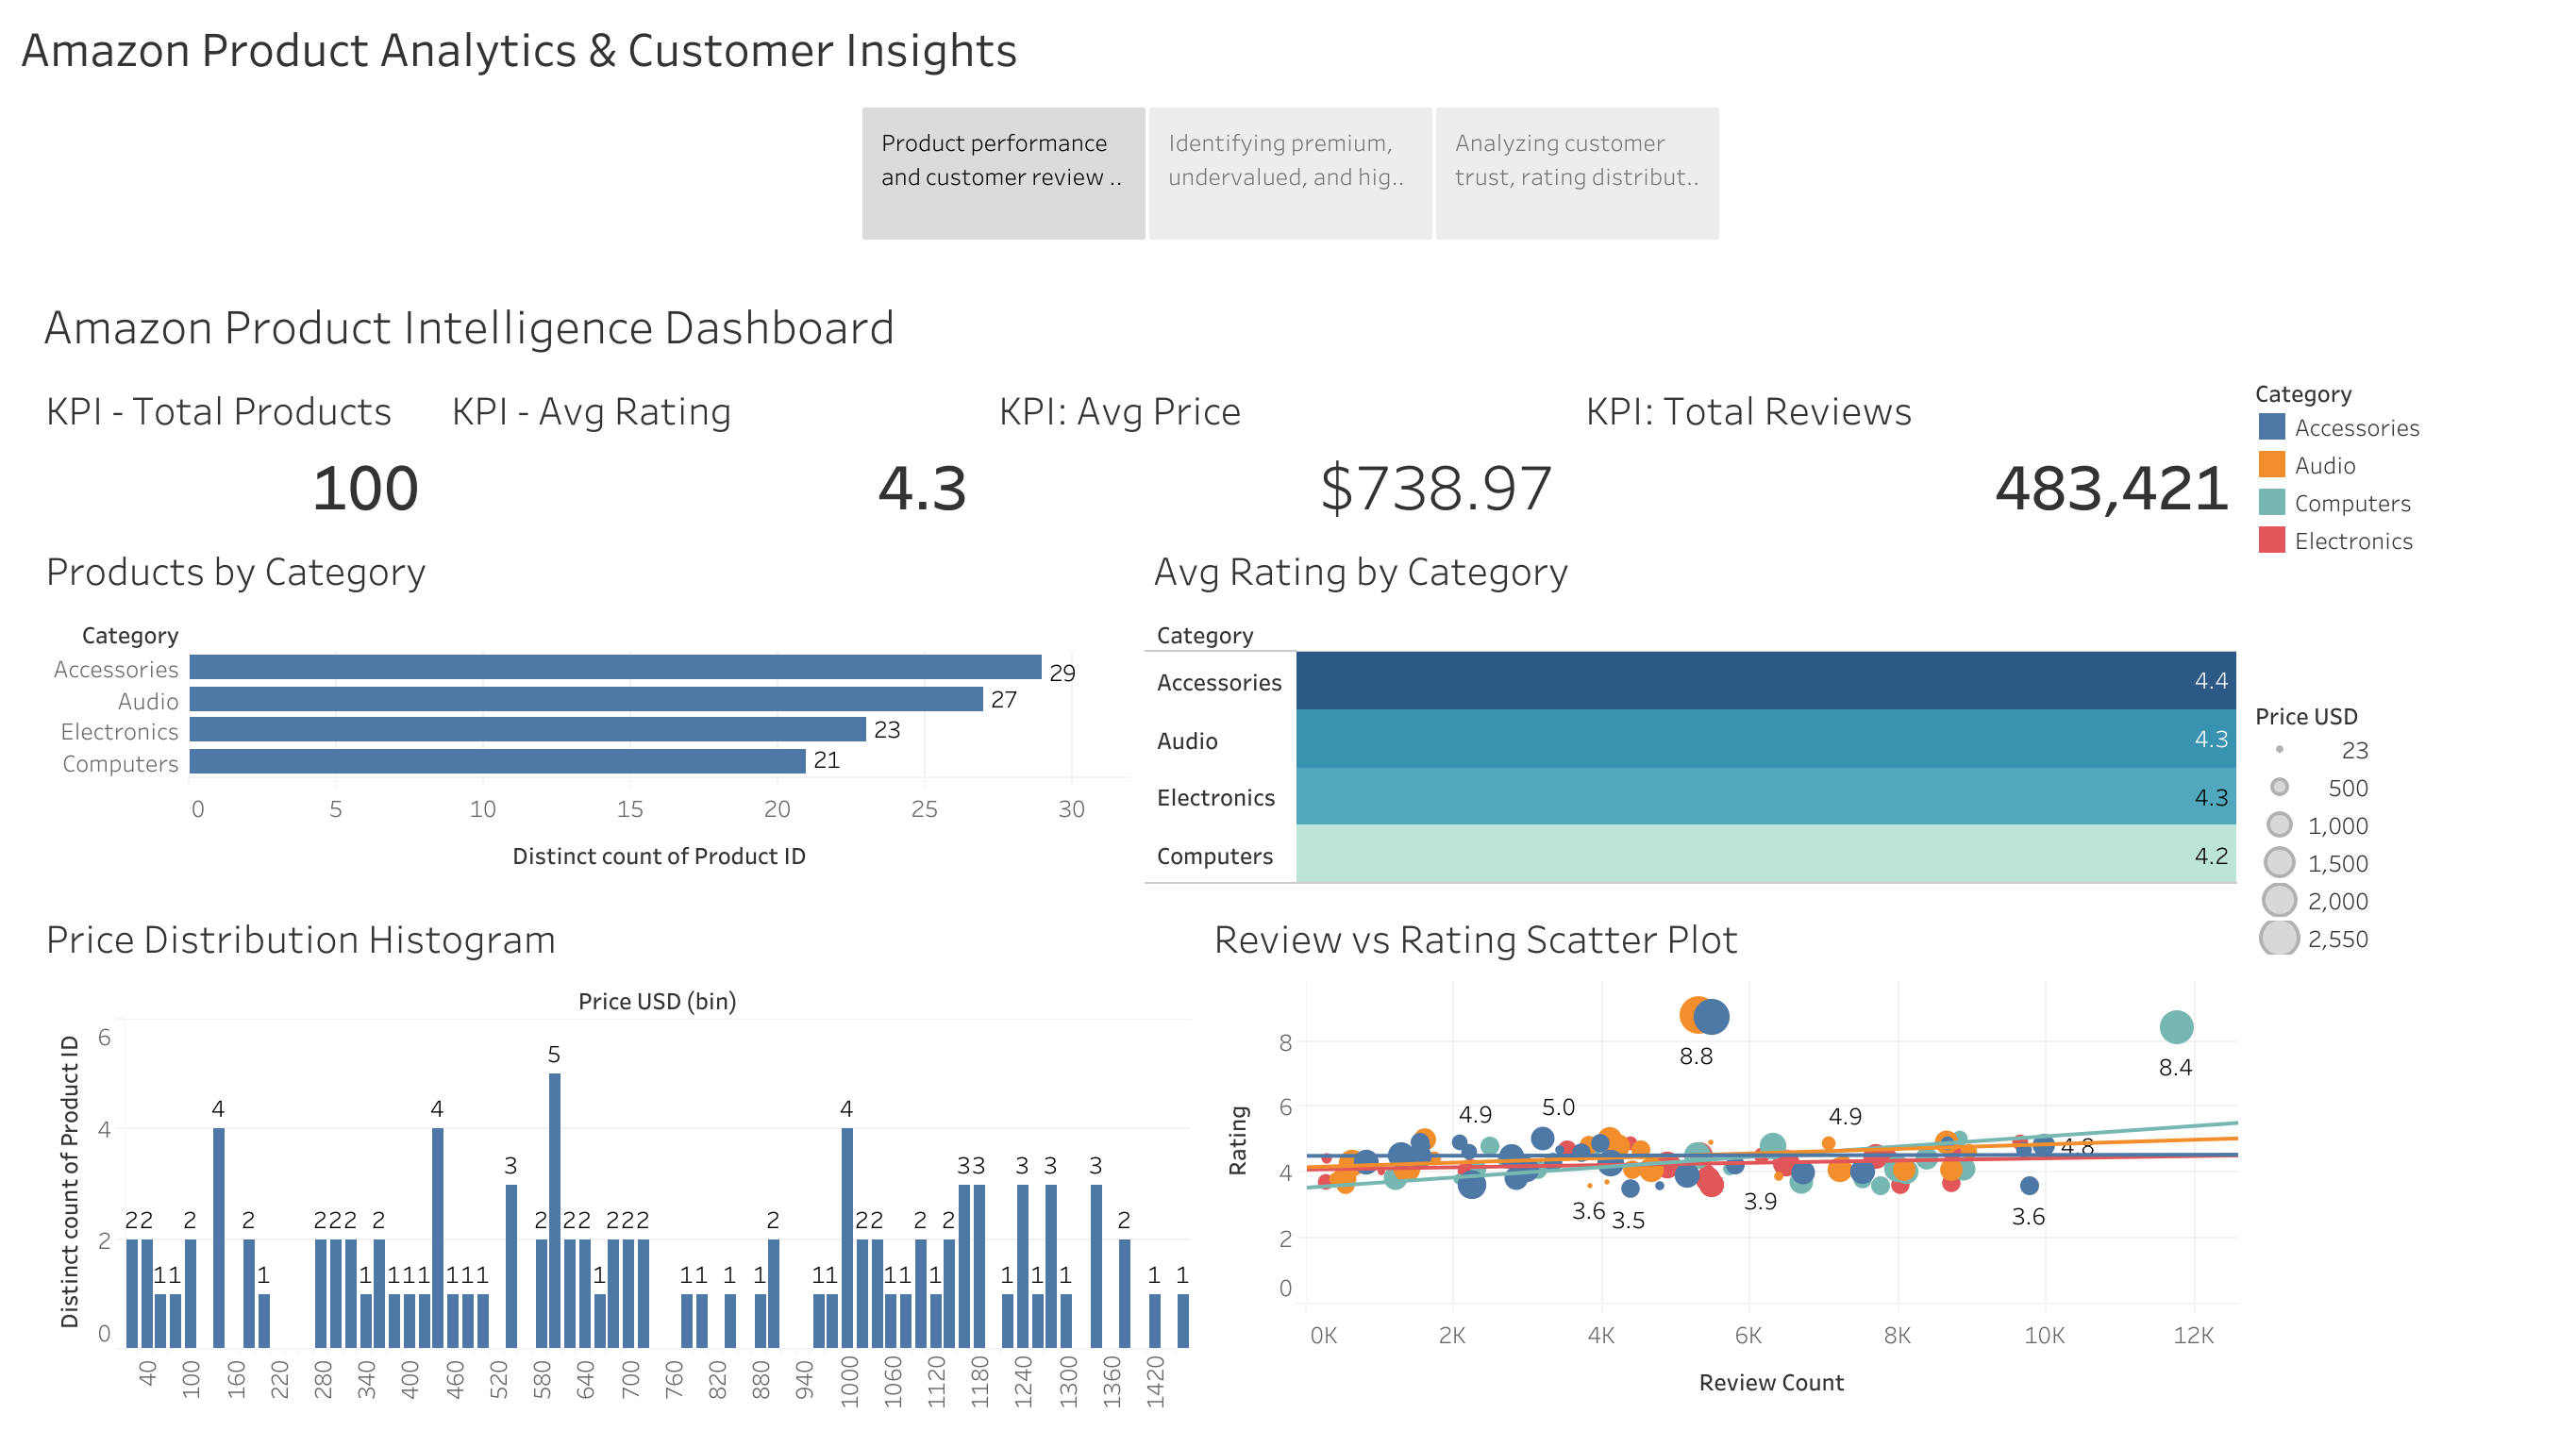

The page's visual inventory and layout, read from the dashboard file:
{"tool":"tableau","page":{"name":"Amazon Product Intelligence Dashboard","canvas":[1000,1000],"units":"permille","ordinal":0},"visuals":[{"type":"title","box":[6.2,11.2,987.7,58.6]},{"type":"worksheet","title":"KPI - Total Products","mark":"Automatic","box":[6.2,69.7,158.3,139]},{"type":"worksheet","title":"KPI - Avg Rating","mark":"Automatic","box":[164.5,69.7,213.6,139]},{"type":"worksheet","title":"KPI: Avg Price","mark":"Automatic","box":[378.1,69.7,229.4,139]},{"type":"worksheet","title":"KPI: Total Reviews","mark":"Automatic","box":[607.5,69.7,263.4,139]},{"type":"legend","title":"Review vs Rating Scatter Plot","param":"[federated.1dmpaba030k53b1ellbzi0w4fpez].[none:Category:nk]","box":[870.9,69.7,123,238.5]},{"type":"worksheet","title":"Products by Category","mark":"Automatic","rows":["Category"],"cols":["Product_ID"],"box":[6.2,208.7,432.4,320.6]},{"type":"worksheet","title":"Avg Rating by Category","mark":"Automatic","rows":["Category"],"box":[438.5,208.7,432.4,320.6]},{"type":"legend","title":"Review vs Rating Scatter Plot","param":"[federated.1dmpaba030k53b1ellbzi0w4fpez].[sum:Price_USD:qk]","box":[870.9,308.2,123,636]},{"type":"worksheet","title":"Price Distribution Histogram","mark":"Bar","rows":["Product_ID"],"cols":["Price USD (bin)"],"box":[6.2,529.3,455.7,459.6]},{"type":"worksheet","title":"Review vs Rating Scatter Plot","mark":"Circle","rows":["Rating"],"cols":["Review_Count"],"box":[461.9,529.3,409,459.6]}]}

Visuals, with their boxes on the dashboard's canvas, which has no fixed pixel size, in thousandths of its width and height (x1, y1, x2, y2). These are canvas units, not pixel positions in the 2576x1447 screenshot, which may show the page scaled, cropped or inside an application window:
title: 6:11:994:70
"KPI - Total Products" worksheet: 6:70:164:209
"KPI - Avg Rating" worksheet: 164:70:378:209
"KPI: Avg Price" worksheet: 378:70:608:209
"KPI: Total Reviews" worksheet: 608:70:871:209
"Review vs Rating Scatter Plot" legend: 871:70:994:308
"Products by Category" worksheet: 6:209:439:529
"Avg Rating by Category" worksheet: 438:209:871:529
"Review vs Rating Scatter Plot" legend: 871:308:994:944
"Price Distribution Histogram" worksheet (Bar marks): 6:529:462:989
"Review vs Rating Scatter Plot" worksheet (Circle marks): 462:529:871:989
